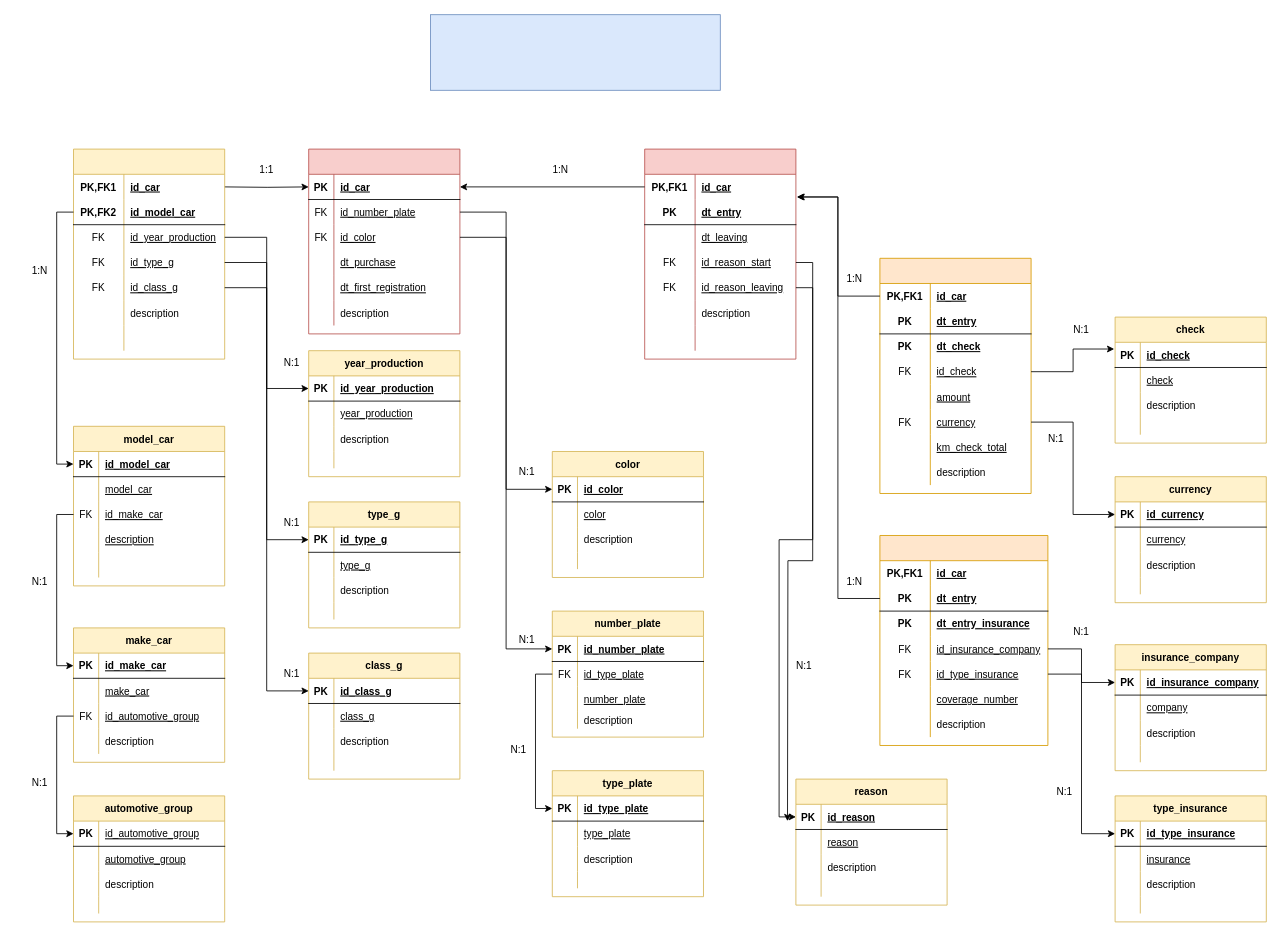
Image size: 1281x937. Some labels were removed from this diagram. The shapes that lost their labels are listed below. From the top down, each one's box as (x1, y1, x2, y2) in pixels, then its label:
(430, 14, 720, 90): Car Stock KC
(73, 148, 225, 359): model_car_KC
(308, 148, 460, 334): car_KC
(644, 148, 796, 359): active_car
(879, 257, 1031, 494): hist_car_check
(879, 535, 1048, 746): hist_insurance
